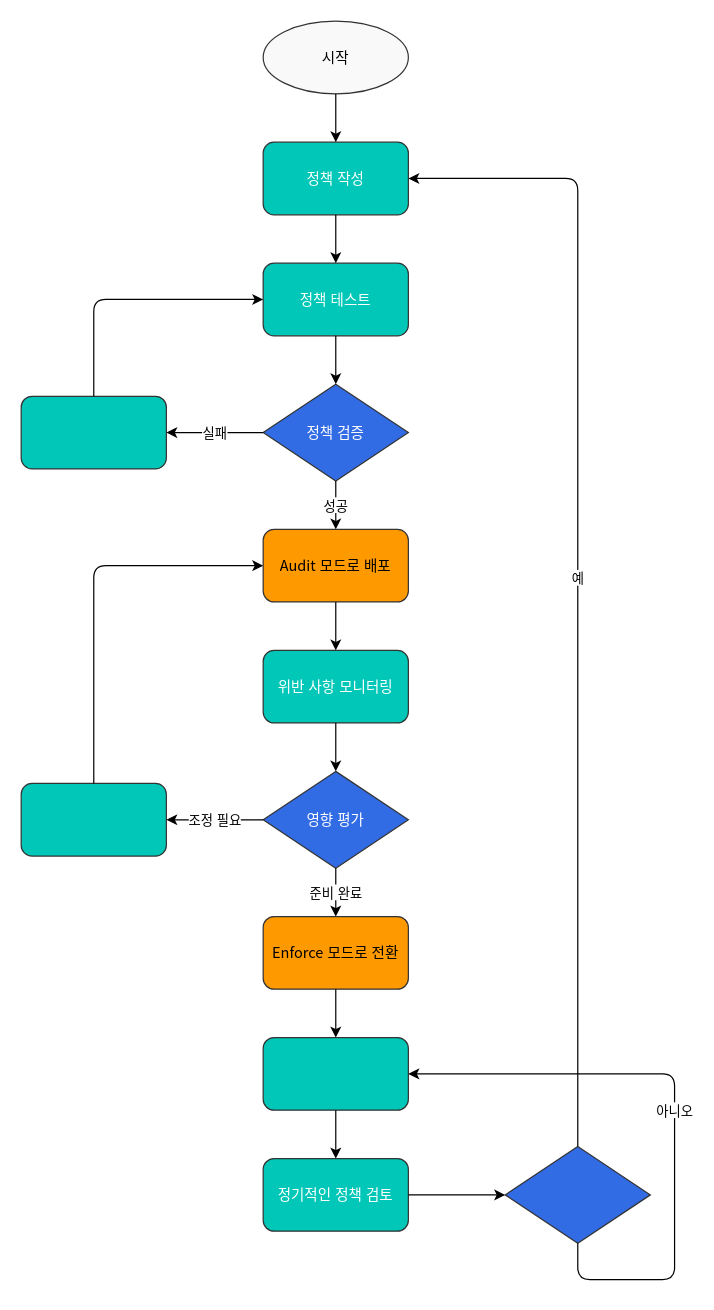
The diagram is 714 pixels wide and 1310 high, and some of its shapes have lost their labels. Here are the shapes that lost their labels. From the top down, the centre of each, then its label:
At (93,432): "정책 수정".
At (93,819): "정책 조정".
At (335,1073): "메트릭 모니터링".
At (577,1194): "업데이트 필요?".
